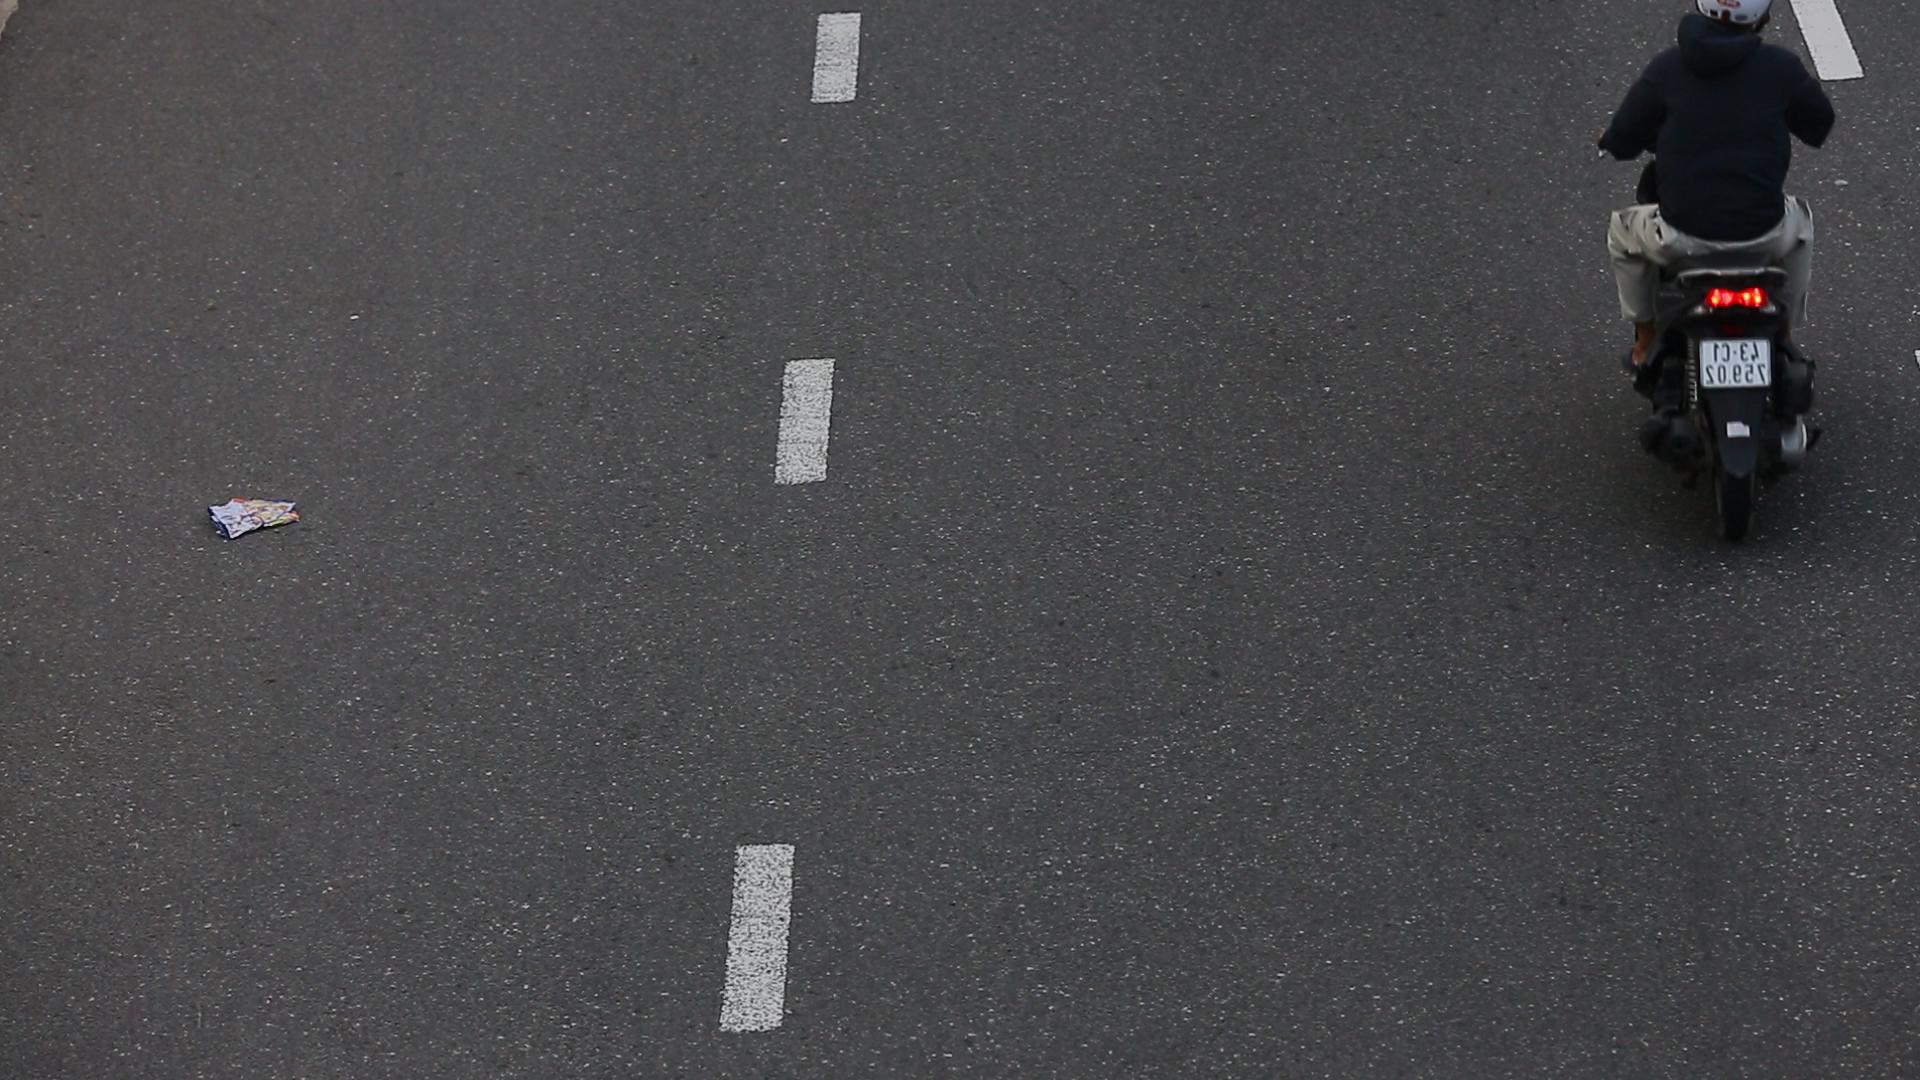motobike: (1573, 0, 1850, 530)
